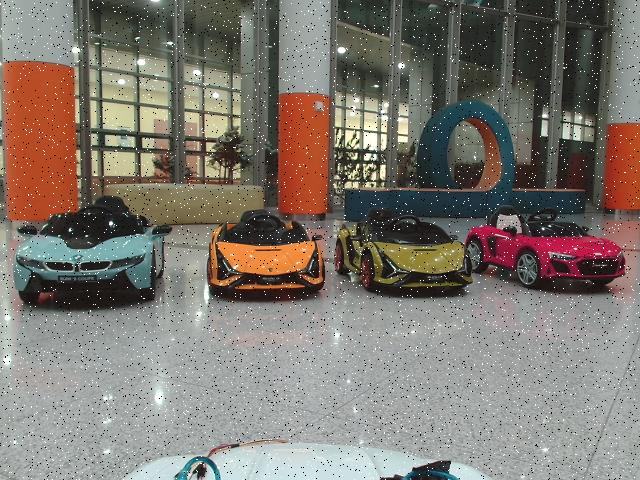car: (13, 195, 173, 305), (464, 204, 627, 289), (333, 207, 473, 294), (206, 209, 326, 295)
